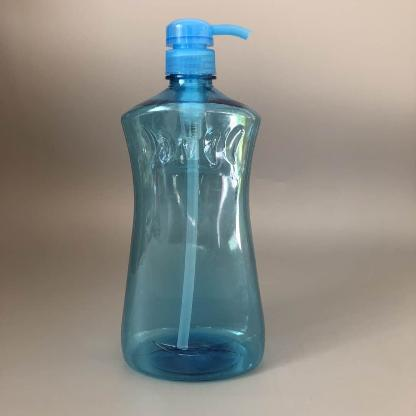Plastic Bottle: (119, 17, 265, 381)
